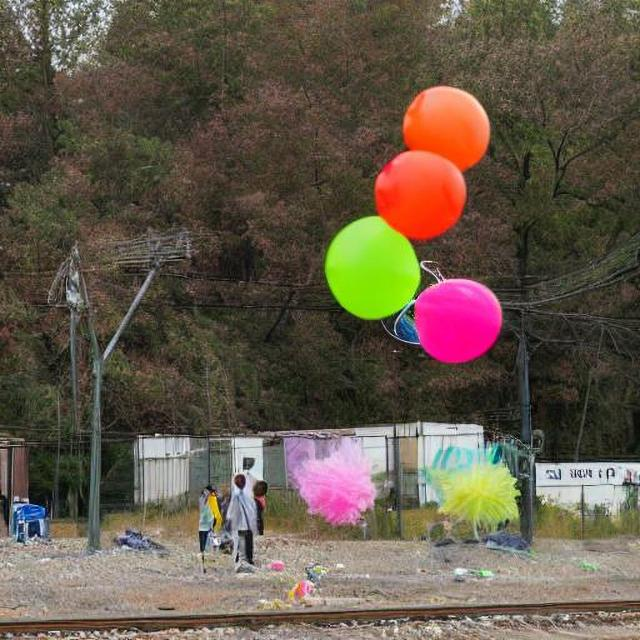balloon: (366, 90, 492, 281), (318, 210, 423, 324), (392, 86, 492, 201), (370, 148, 468, 237), (412, 277, 503, 360)
floating object: (282, 446, 384, 530), (420, 444, 519, 524)
